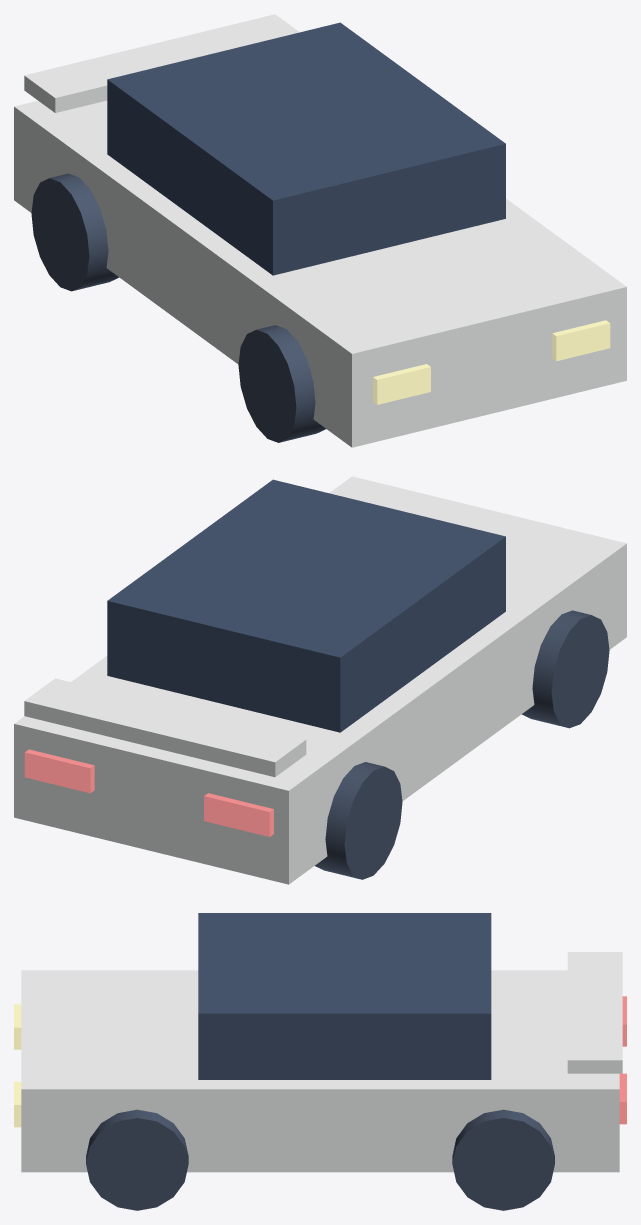
The model's file is car_0.glb.
3 renders of one model, top to bottom at view 1: azimuth 30°, elevation 25°; view 2: azimuth 150°, elevation 25°; view 3: azimuth 270°, elevation 25°, orthographic. The views are drawn at different scales.
Visible parts, largest first — view 1: chassis, cabin, spoiler, wheel_0, wheel_2, headlight_1, headlight_0; view 2: chassis, cabin, spoiler, wheel_2, wheel_0, taillight_1, taillight_0; view 3: chassis, cabin, wheel_1, wheel_3, spoiler.
Part boxes in pixels (bbox=[...]): chassis: bbox=[14, 100, 626, 447]; cabin: bbox=[107, 22, 505, 275]; spoiler: bbox=[24, 14, 299, 112]; wheel_0: bbox=[238, 325, 325, 442]; wheel_2: bbox=[31, 173, 118, 291]; headlight_1: bbox=[552, 320, 610, 361]; headlight_0: bbox=[373, 364, 430, 404]; chassis: bbox=[14, 476, 626, 884]; cabin: bbox=[107, 479, 505, 732]; spoiler: bbox=[24, 678, 306, 777]; wheel_2: bbox=[315, 762, 402, 879]; wheel_0: bbox=[522, 610, 609, 728]; taillight_1: bbox=[24, 749, 94, 793]; taillight_0: bbox=[204, 793, 273, 836]; chassis: bbox=[21, 970, 619, 1172]; cabin: bbox=[198, 913, 491, 1079]; wheel_1: bbox=[86, 1109, 188, 1210]; wheel_3: bbox=[452, 1109, 554, 1210]; spoiler: bbox=[567, 952, 622, 1073].
Bounding box in the file's own units: 2.62 × 1.62 × 5.02.
